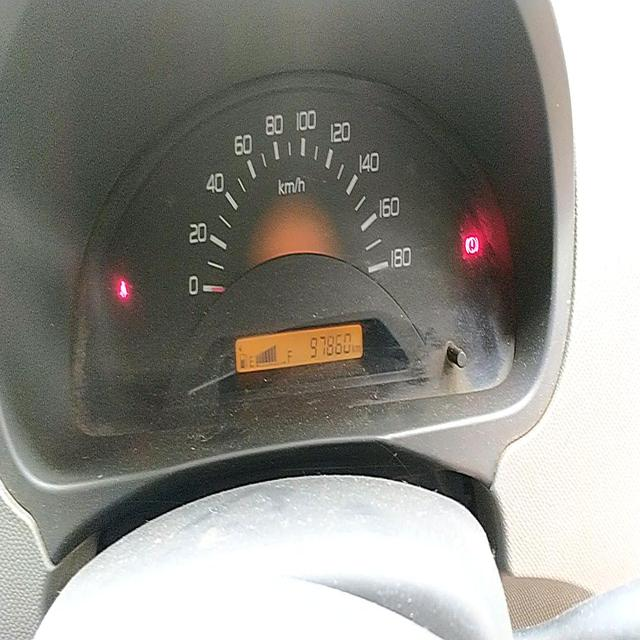odometer: (309, 331, 352, 360)
